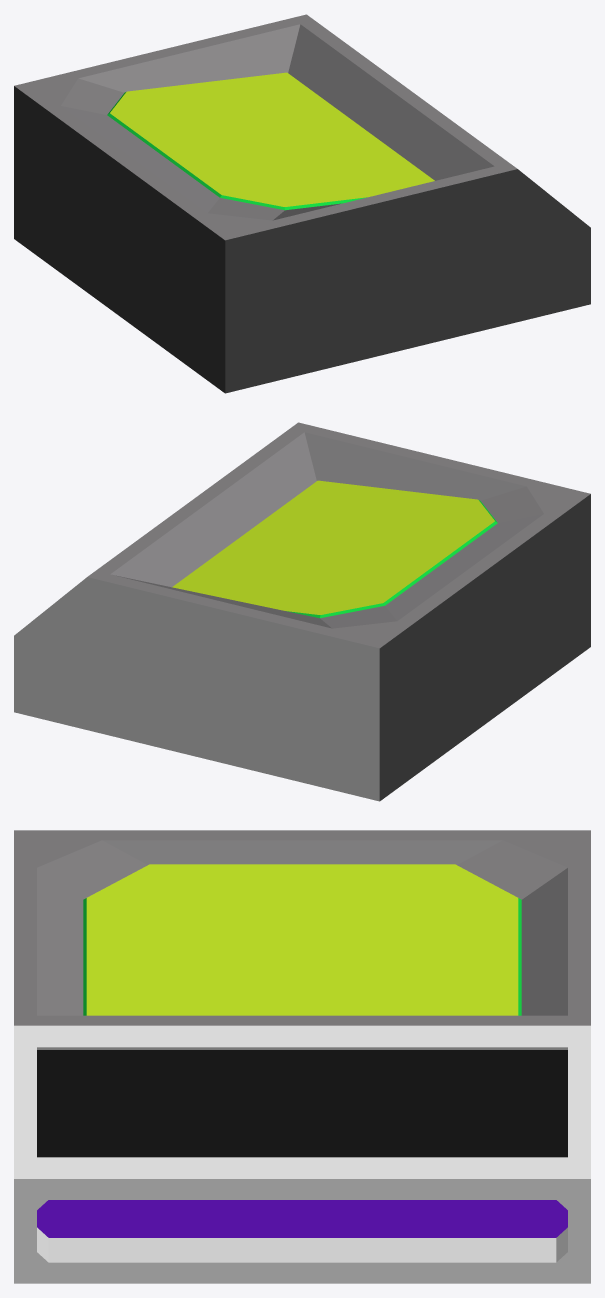
The model's file is PlatformBorder00_2.5.fbx.
The picture shows the model from 3 angles, top to bottom: view 1: azimuth 30°, elevation 25°; view 2: azimuth 150°, elevation 25°; view 3: azimuth 270°, elevation 25°; orthographic projection. The views are drawn at different scales.
Visible parts, largest first — view 1: PlatformBorder00_2.5; view 2: PlatformBorder00_2.5; view 3: PlatformBorder00_2.5.
Boxes of the visible parts, x1,y1,x2,y2 form: PlatformBorder00_2.5: (14,14,590,393); PlatformBorder00_2.5: (14,422,590,801); PlatformBorder00_2.5: (14,830,590,1283).
Size of the model in its own units: 250 by 100 by 250.
